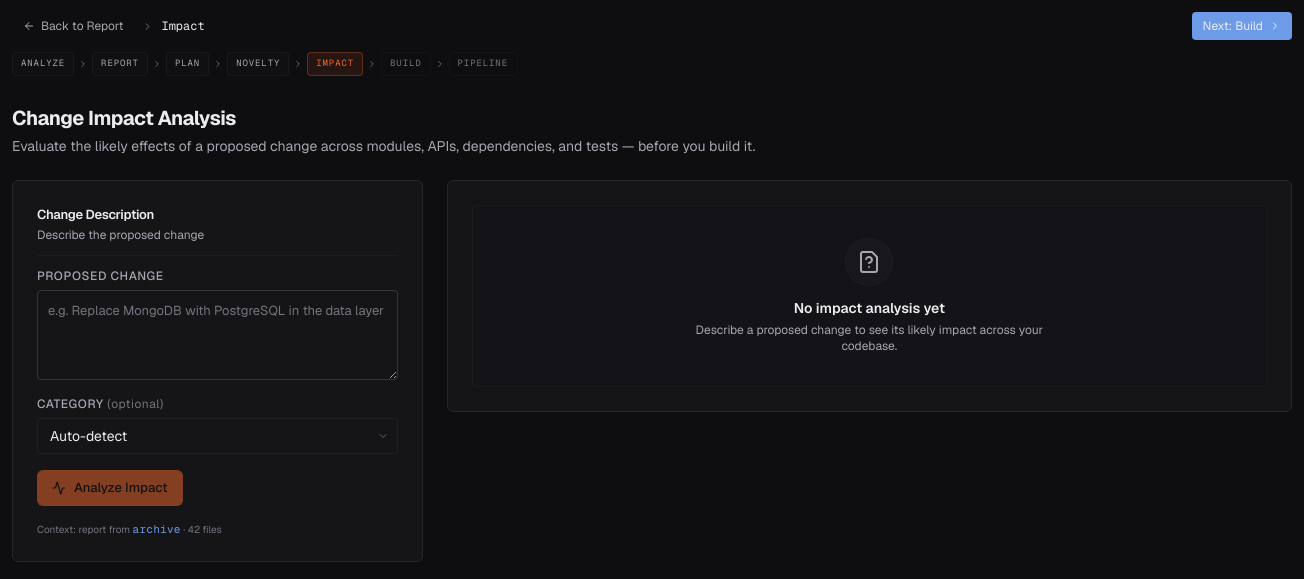
Impact workflow › shows an error state on API failure
Type "Replace MongoDB with PostgreSQL" into the text box labelled "Proposed Change". click: {"x": 217, "y": 334}
box: [37,290,398,380]
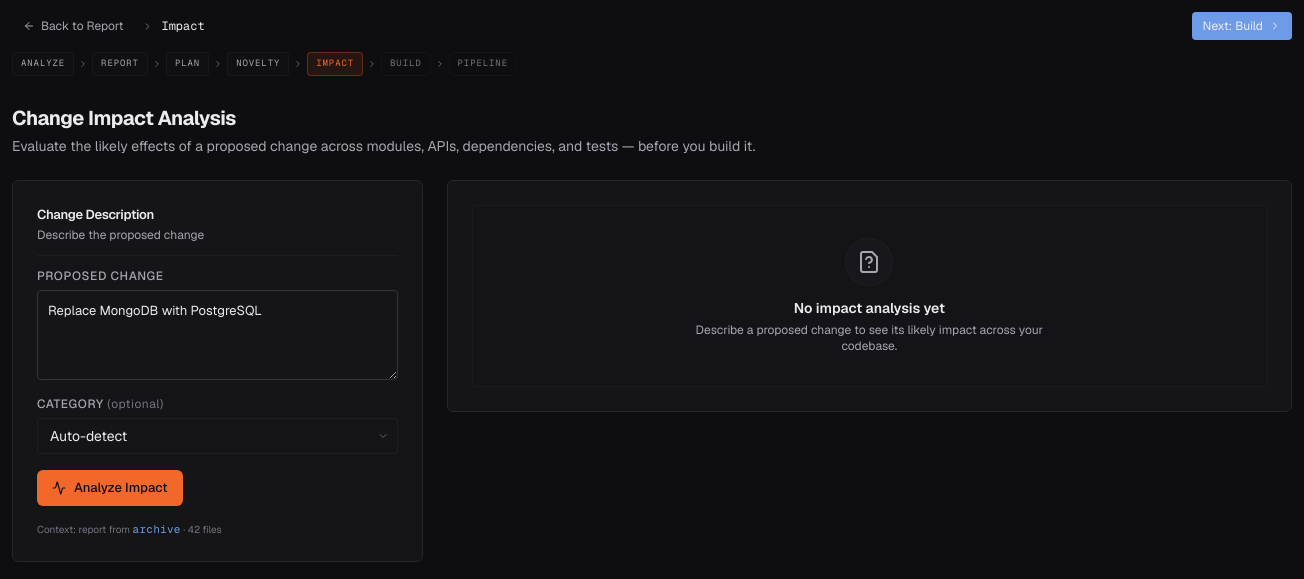
Click the button "Analyze Impact". click: {"x": 110, "y": 488}
box: [37,470,182,506]
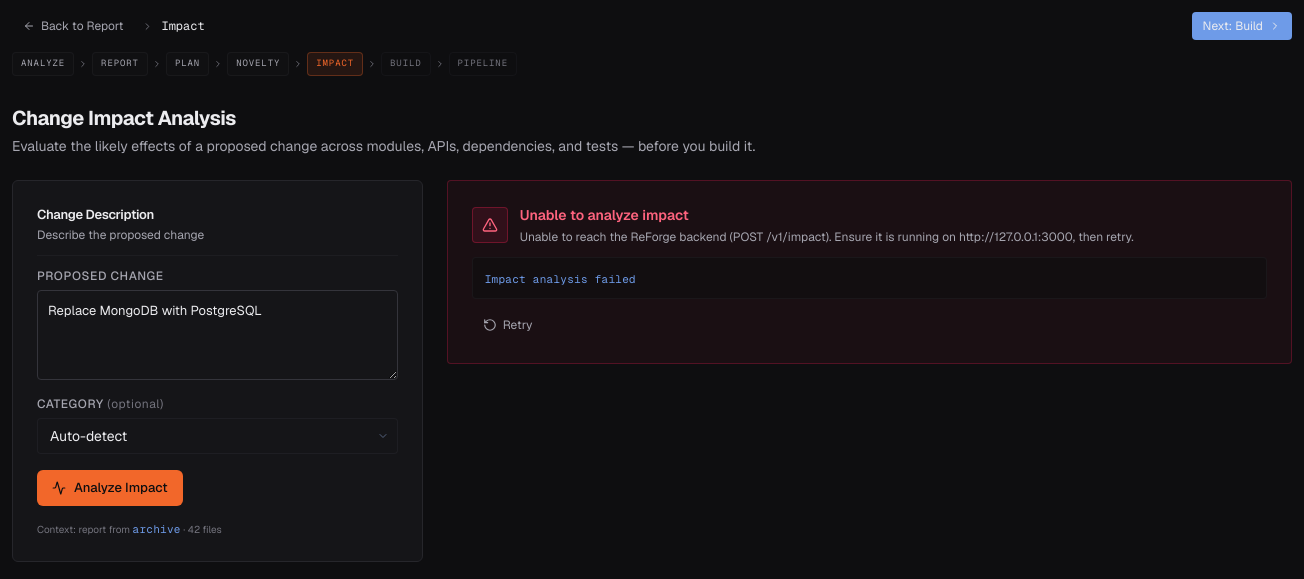
Check: the text "Impact analysis failed" is shown, box [481,272,640,286]
Check: the button "Retry" is shown, box [472,310,544,338]
